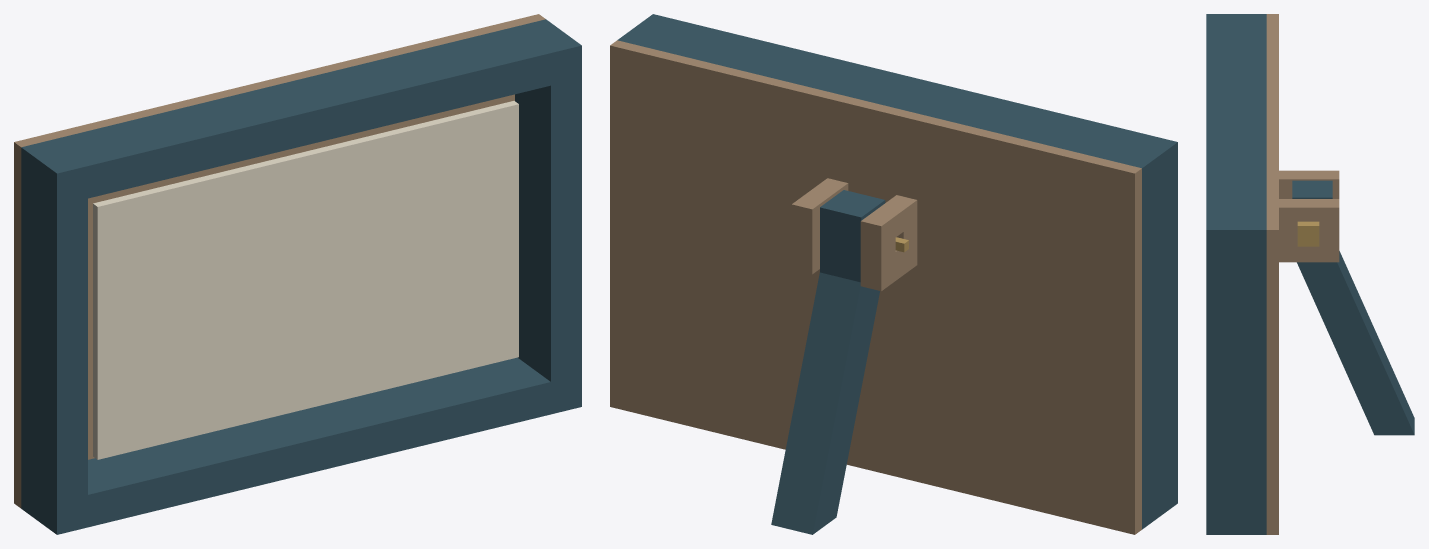
3 views of the same model, side by side, from view 1: azimuth 30°, elevation 25°; view 2: azimuth 150°, elevation 25°; view 3: azimuth 270°, elevation 25° (orthographic). The views are drawn at different scales.
Parts seen in each view (by area): view 1: BlankFloatingDisplayPanel, ContinuousDeepFrame, CompleteRearBoard; view 2: CompleteRearBoard, ContinuousDeepFrame, PiercedFixedRearStrut, PiercedRearCheekLeft, PiercedRearCheekRight; view 3: ContinuousDeepFrame, PiercedFixedRearStrut, CompleteRearBoard, PiercedRearCheekRight, PiercedRearCheekLeft, ContinuousHeadedSquarePin.
Part boxes in pixels (<box>): BlankFloatingDisplayPanel: <box>93,101,518,459</box>; ContinuousDeepFrame: <box>21,19,581,534</box>; CompleteRearBoard: <box>14,14,545,508</box>; CompleteRearBoard: <box>610,40,1141,534</box>; ContinuousDeepFrame: <box>617,14,1177,529</box>; PiercedFixedRearStrut: <box>771,190,885,534</box>; PiercedRearCheekLeft: <box>860,195,917,291</box>; PiercedRearCheekRight: <box>791,178,848,274</box>; ContinuousDeepFrame: <box>1206,14,1266,534</box>; PiercedFixedRearStrut: <box>1292,180,1414,435</box>; CompleteRearBoard: <box>1266,14,1278,534</box>; PiercedRearCheekRight: <box>1279,199,1339,262</box>; PiercedRearCheekLeft: <box>1279,170,1339,198</box>; ContinuousHeadedSquarePin: <box>1297,221,1319,246</box>.
Bounding box in the file's own units: 0.76 × 0.5 × 0.31.
